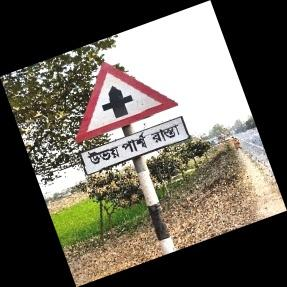Crossroad: (75, 61, 186, 179)
